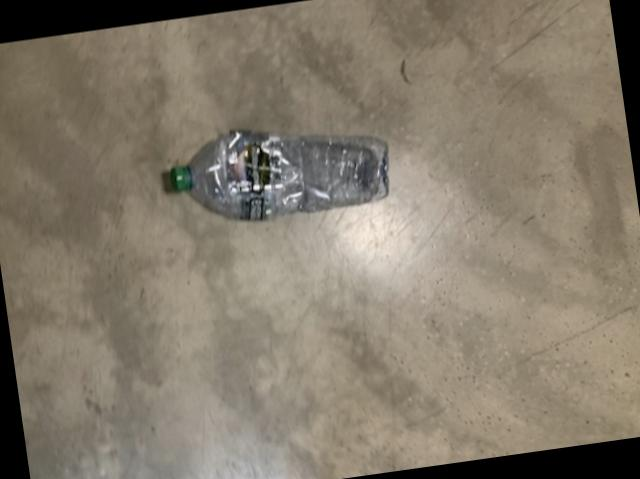plastic: (161, 133, 385, 222)
